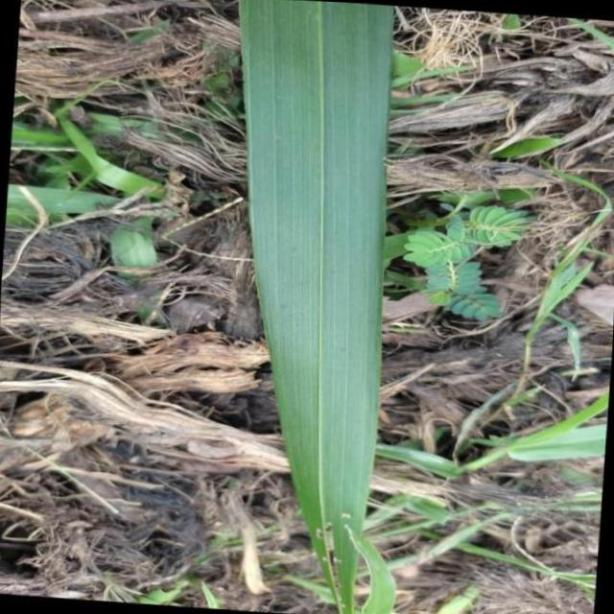Boron: (238, 0, 381, 614)
